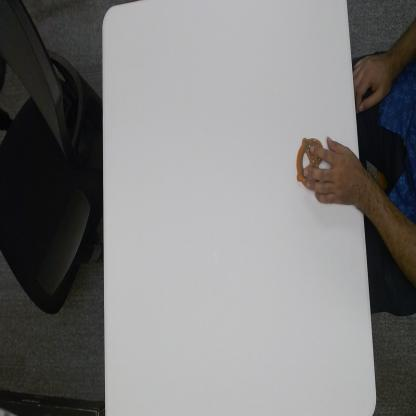Pretzel: (302, 136, 363, 209), (296, 134, 323, 189)
